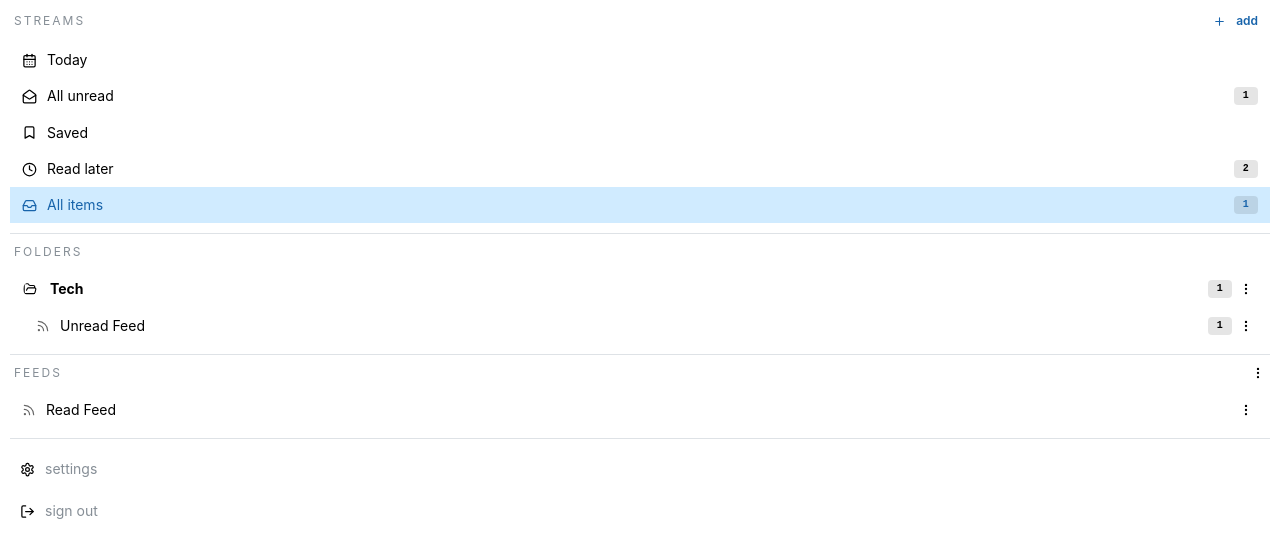
Test: Sidebar sections › collapses and expands a folder via its icon
The width and height of the screenshot is (1280, 536).
Expected: the text "Unread Feed" is shown, 60,316 -> 145,336
Click the button named "collapse folder Tech": (30, 289) 22,281 -> 38,297
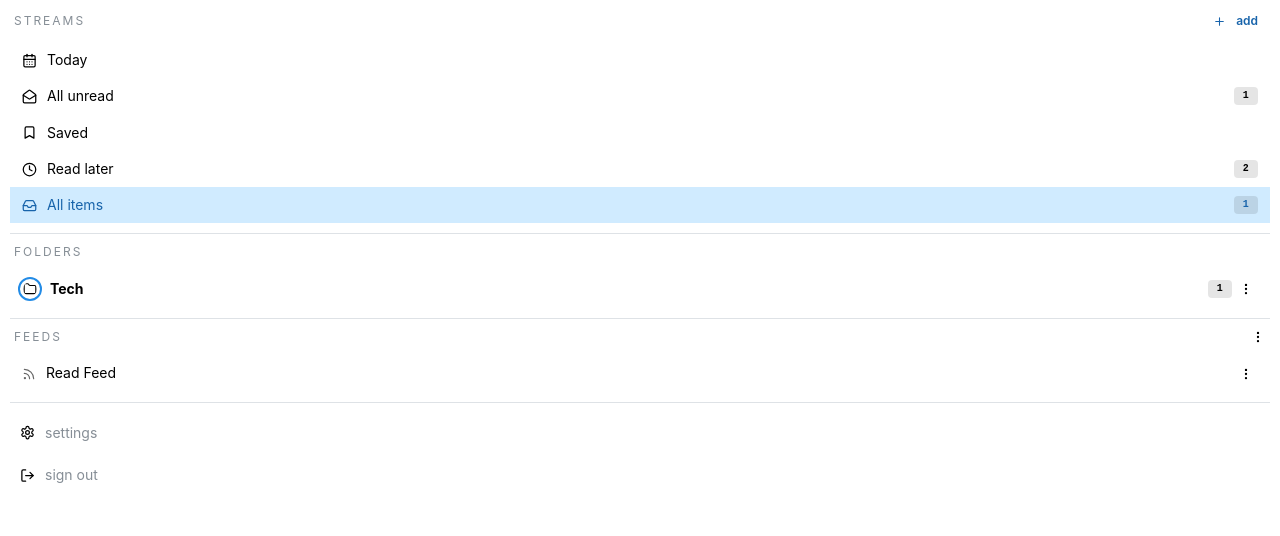
Expected: the link "Unread Feed" is gone
Expected: the button named "expand folder Tech" is shown, 22,281 -> 38,297
